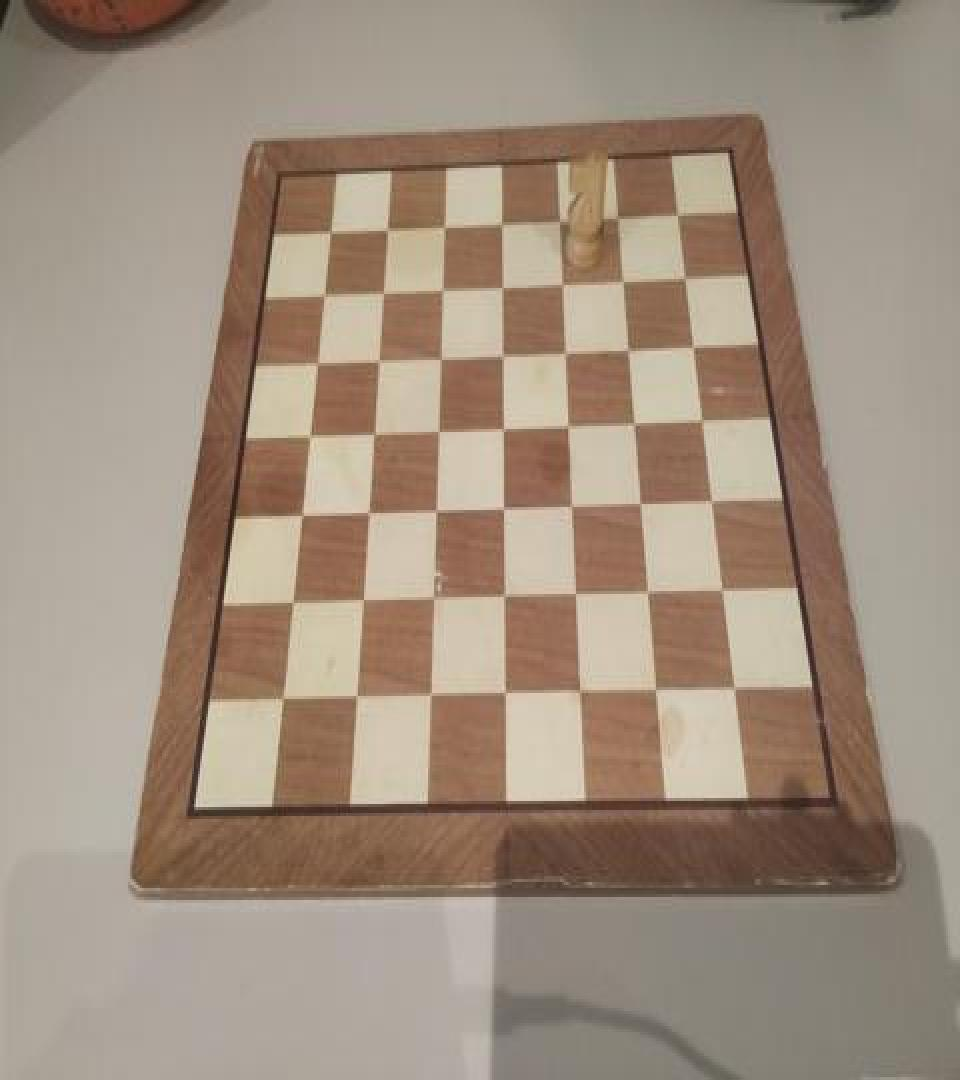xcorner: (609, 199, 629, 230), (345, 681, 365, 711), (420, 680, 440, 710), (495, 680, 515, 710), (571, 678, 591, 708), (647, 676, 667, 706), (724, 675, 744, 705), (352, 585, 372, 615), (423, 582, 443, 612), (567, 579, 587, 609), (639, 578, 659, 608), (713, 576, 733, 606), (290, 498, 310, 528), (358, 496, 378, 526), (426, 494, 446, 524), (494, 492, 514, 522), (563, 490, 583, 520), (632, 488, 652, 518), (702, 486, 722, 516), (299, 417, 319, 447), (363, 416, 383, 446), (428, 412, 448, 442), (494, 411, 514, 441), (560, 408, 580, 438), (626, 406, 646, 436), (693, 404, 713, 434), (307, 344, 327, 374), (368, 342, 388, 372), (431, 339, 451, 369), (493, 336, 513, 366), (556, 334, 576, 364), (620, 332, 640, 362), (684, 330, 704, 360), (314, 276, 334, 306), (373, 273, 393, 303), (433, 270, 453, 300), (493, 268, 513, 298), (554, 266, 574, 296), (615, 262, 635, 292), (676, 261, 696, 291), (320, 213, 340, 243), (377, 210, 397, 240), (435, 208, 455, 238), (493, 206, 513, 236), (551, 202, 571, 232), (668, 198, 688, 228), (271, 683, 291, 712), (281, 587, 301, 616), (494, 581, 514, 610)
